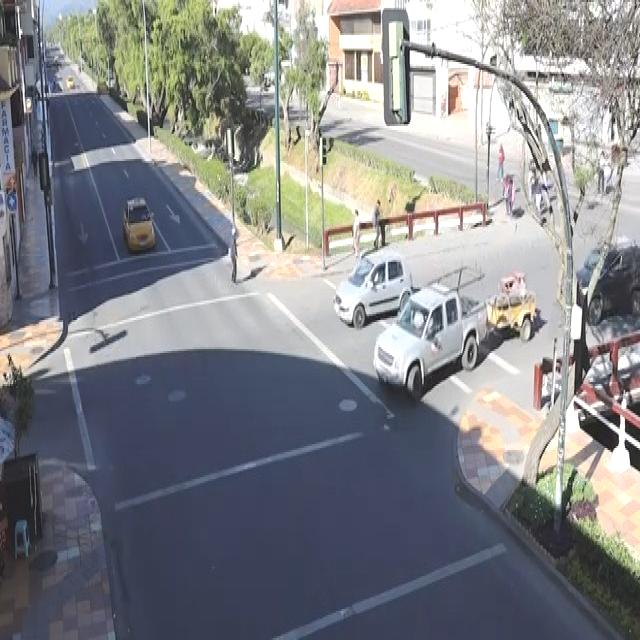CMT: (376, 291, 486, 387)
